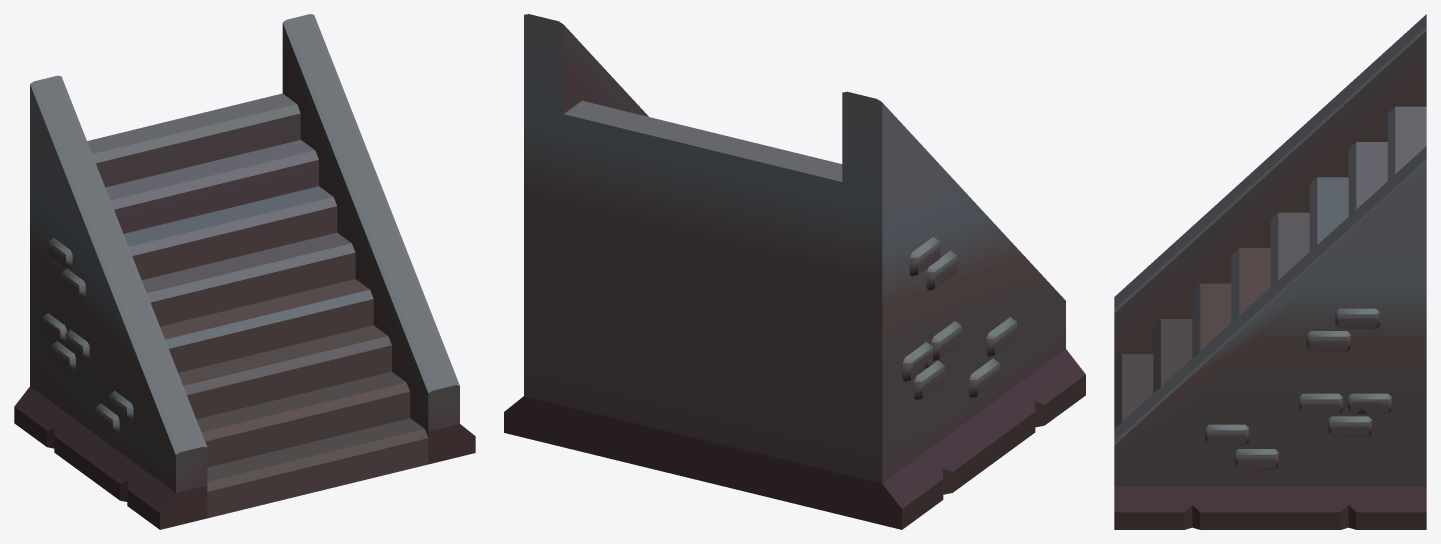
File: stairs.glb
The picture shows the model from 3 angles, left to right: view 1: azimuth 30°, elevation 25°; view 2: azimuth 150°, elevation 25°; view 3: azimuth 270°, elevation 25°; orthographic projection. The views are drawn at different scales.
Parts seen in each view (by area): view 1: stairs; view 2: stairs; view 3: stairs.
Part boxes in pixels (x1,y1,x2,y2): stairs: (14,14,475,529); stairs: (504,14,1085,529); stairs: (1114,14,1426,529).
Size of the model in its own units: 5 by 5.1 by 4.
Materials: 1 (1 with a texture image).
